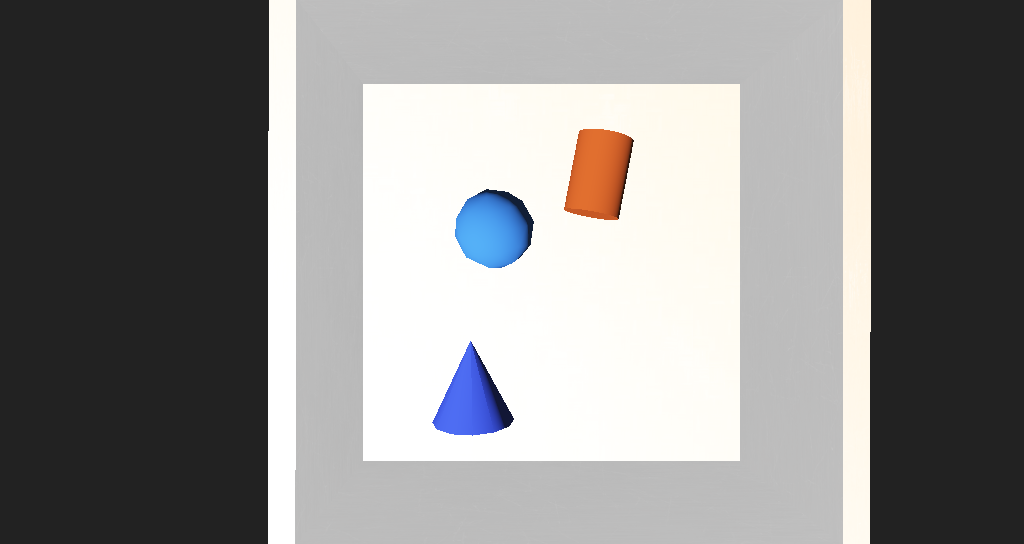cone: (515, 188, 576, 241)
cylinder: (394, 301, 482, 358)
sphere: (424, 220, 492, 267)
